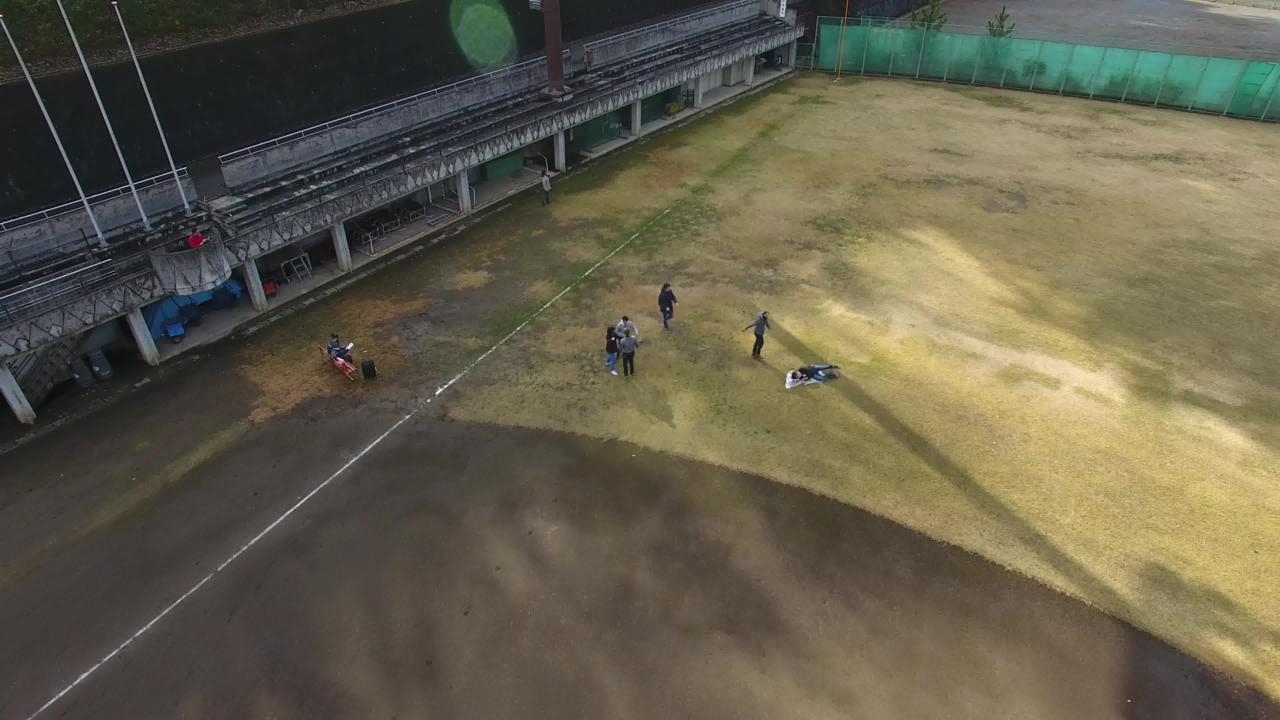person: (322, 329, 372, 390), (654, 278, 691, 344), (783, 358, 850, 386), (179, 228, 224, 268), (537, 159, 566, 218), (749, 301, 770, 382), (601, 320, 628, 380), (616, 331, 644, 384), (616, 311, 646, 341)
